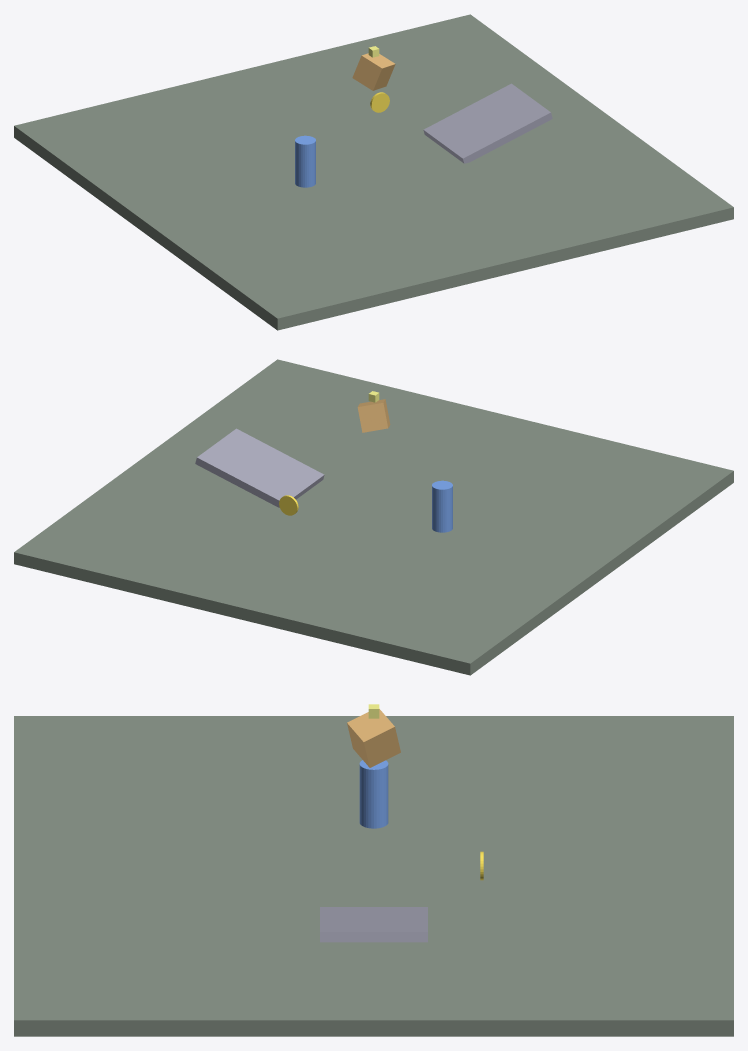
Rendered from basic.meshopt.glb.
3 renders of one model, top to bottom at view 1: azimuth 30°, elevation 25°; view 2: azimuth 150°, elevation 25°; view 3: azimuth 270°, elevation 25°, orthographic. The views are drawn at different scales.
Visible parts, largest first — view 1: Ground, Ramp, Crate, Player; view 2: Ground, Ramp, Player, Crate; view 3: Ground, Ramp, Crate, Player.
Part boxes in pixels (x1,y1,x2,y2): Ground: [14, 14, 733, 330]; Ramp: [423, 83, 552, 163]; Crate: [352, 53, 395, 90]; Player: [295, 135, 315, 187]; Ground: [14, 359, 733, 675]; Ramp: [195, 428, 324, 507]; Player: [432, 480, 452, 532]; Crate: [357, 399, 390, 432]; Ground: [14, 716, 733, 1036]; Ramp: [320, 907, 427, 942]; Crate: [347, 709, 400, 767]; Player: [359, 760, 388, 828].
Size of the model in its own units: 20 by 5.45 by 20.
